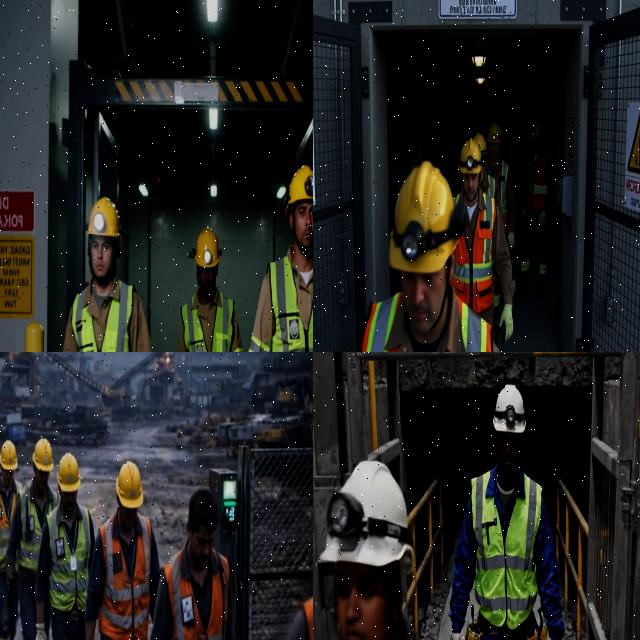Vest: (471, 472, 541, 629), (98, 515, 151, 639), (162, 549, 228, 639), (451, 193, 495, 312), (46, 508, 89, 614), (71, 282, 132, 351), (268, 256, 312, 351), (361, 294, 400, 351), (16, 487, 41, 574), (0, 482, 22, 573), (487, 159, 508, 231), (527, 150, 548, 211), (210, 293, 232, 351), (303, 598, 312, 639)
Worker: (450, 385, 563, 639), (360, 161, 498, 351), (318, 461, 412, 639), (62, 198, 150, 351), (85, 462, 159, 639), (150, 488, 234, 639), (452, 139, 514, 341), (248, 166, 312, 351), (35, 453, 94, 639), (6, 438, 57, 639), (176, 228, 242, 351), (515, 120, 554, 298), (0, 440, 22, 639), (485, 123, 516, 250), (286, 597, 312, 639)
helmet: (317, 461, 412, 604), (389, 161, 464, 273), (86, 197, 121, 242), (493, 385, 525, 433), (285, 165, 312, 216), (189, 227, 220, 268), (116, 462, 142, 509), (57, 453, 79, 492), (458, 139, 481, 174), (32, 438, 52, 471), (0, 440, 16, 470), (473, 132, 487, 165), (487, 123, 502, 143), (530, 120, 544, 139)
